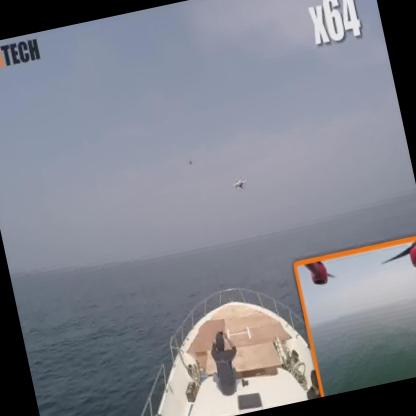drone: (228, 170, 254, 197)
